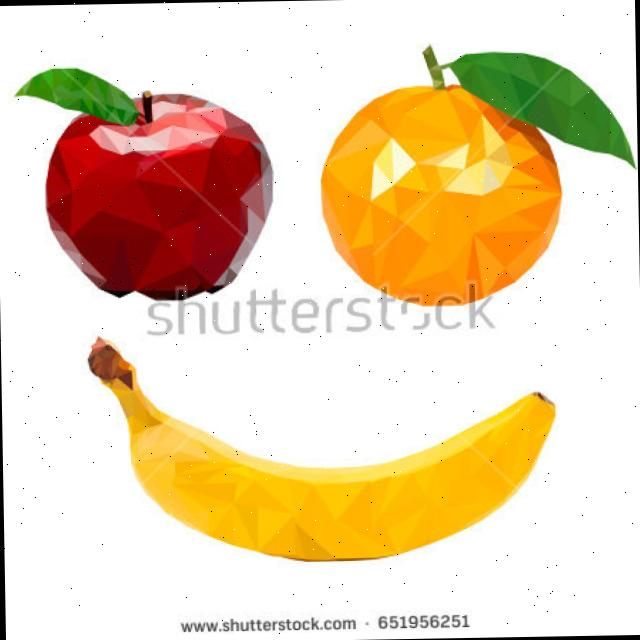Apel: (12, 62, 274, 303)
Jeruk: (315, 40, 637, 309)
Pisang: (85, 327, 558, 565)
